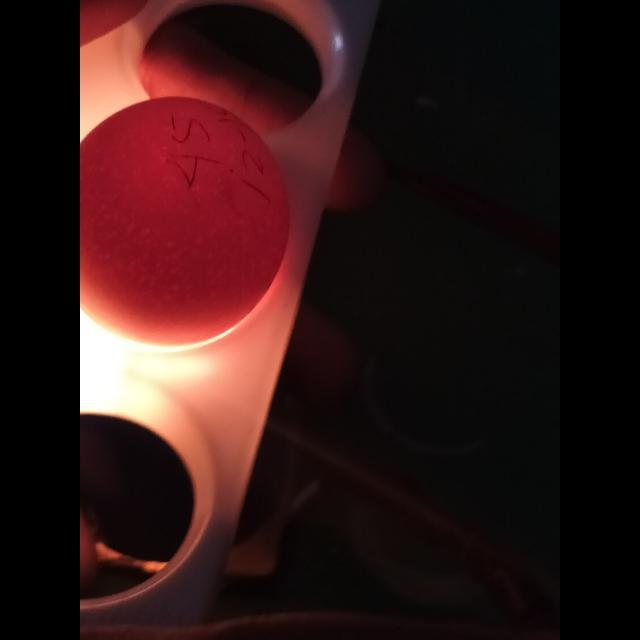Infertile: (80, 98, 292, 342)
